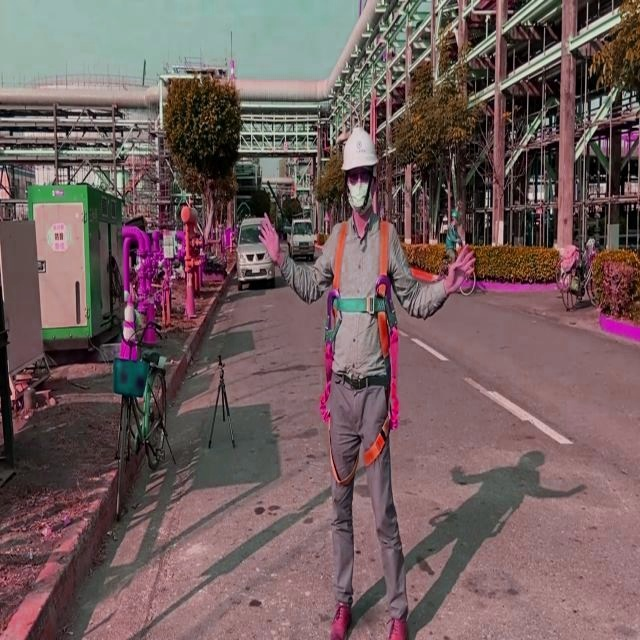safety belt: (329, 223, 403, 491)
